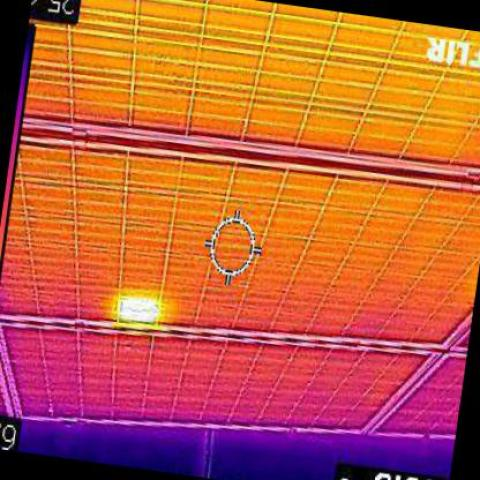fault: (116, 288, 161, 320)
